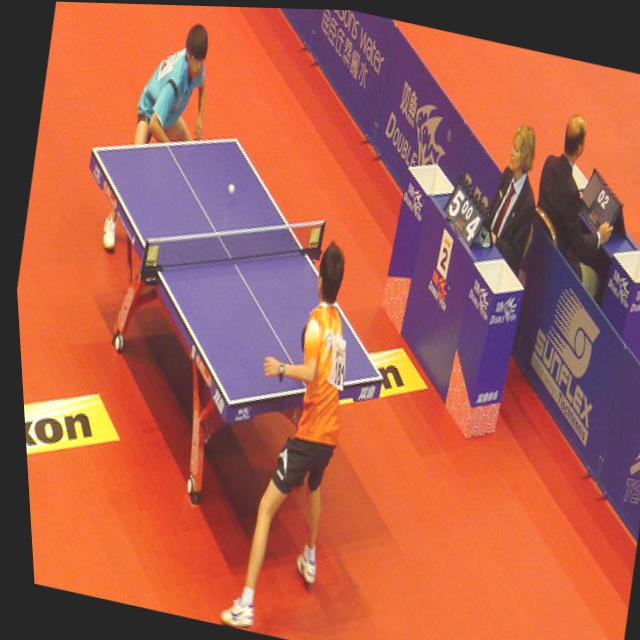TT Net: (139, 217, 328, 277)
TT Table: (91, 136, 385, 407)
